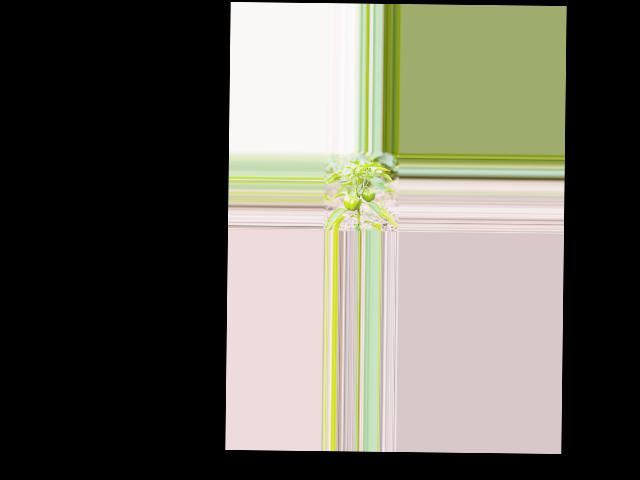bell_pepper: (361, 188, 376, 202)
